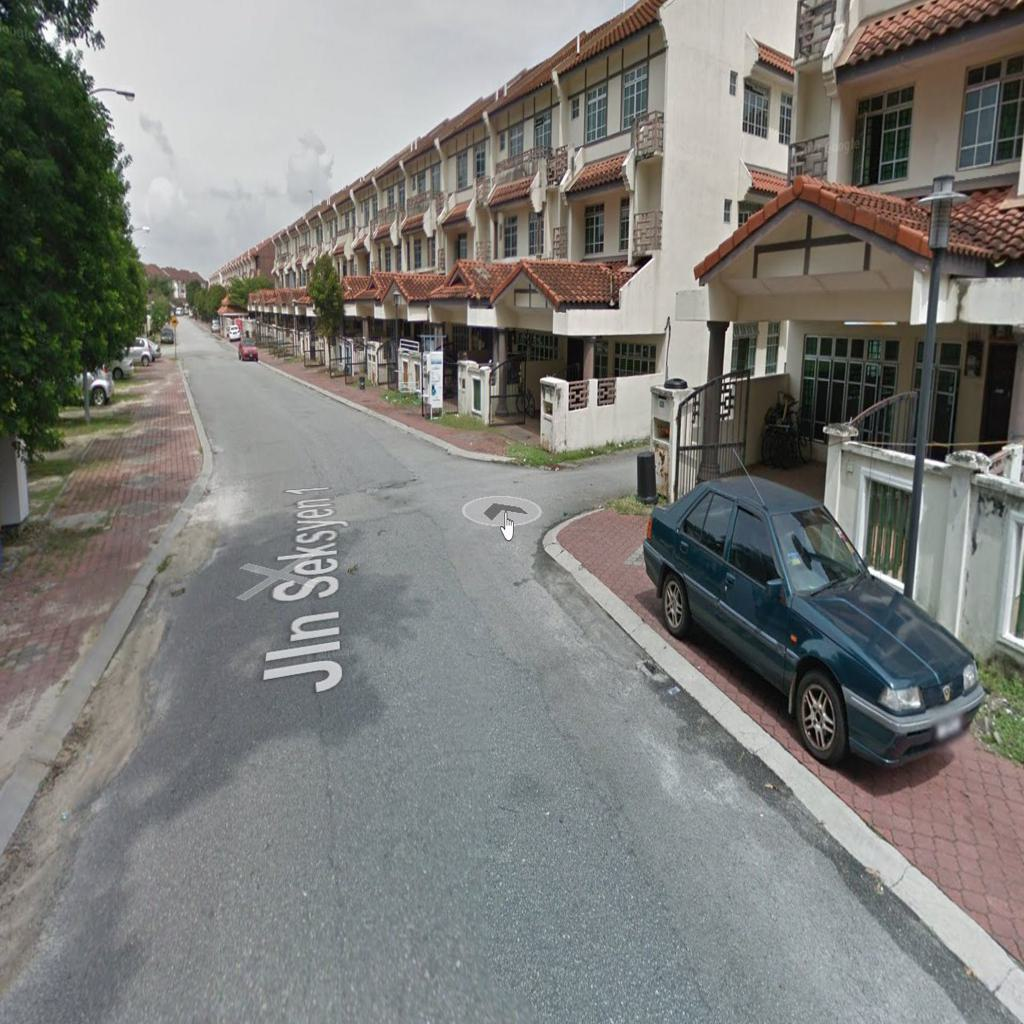Junction: (379, 432, 650, 556)
